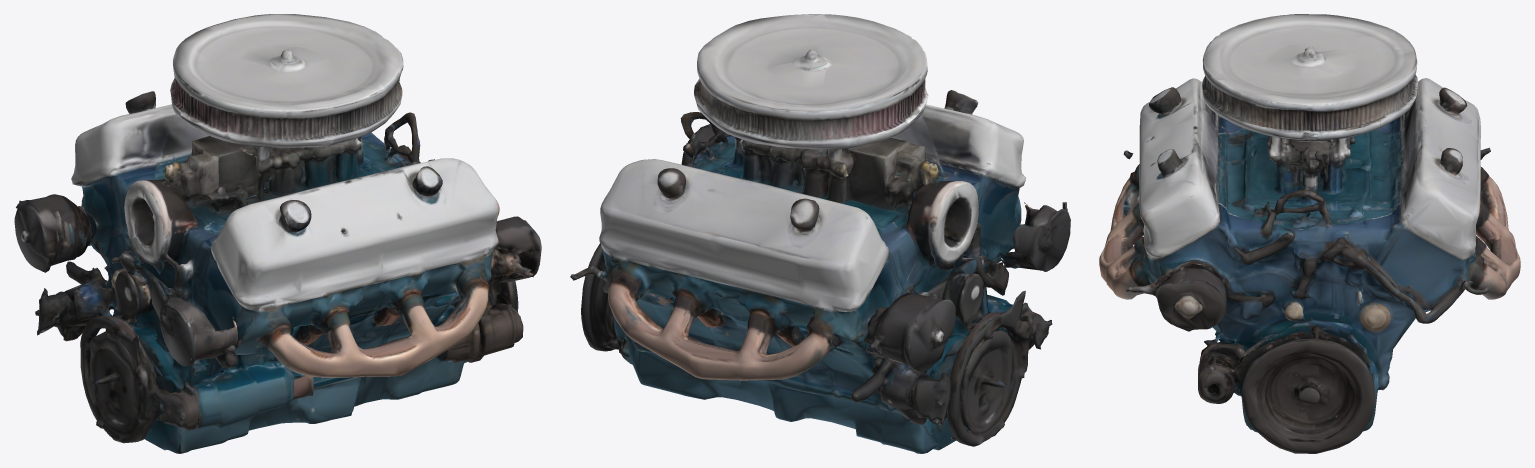
The model's file is pickup_v8_1979.glb.
3 renders of one model, left to right at view 1: azimuth 30°, elevation 25°; view 2: azimuth 150°, elevation 25°; view 3: azimuth 270°, elevation 25°, orthographic. The views are drawn at different scales.
Size of the model in its own units: 0.82 by 0.7079 by 0.8196.
Materials: 1 (1 with a texture image).
